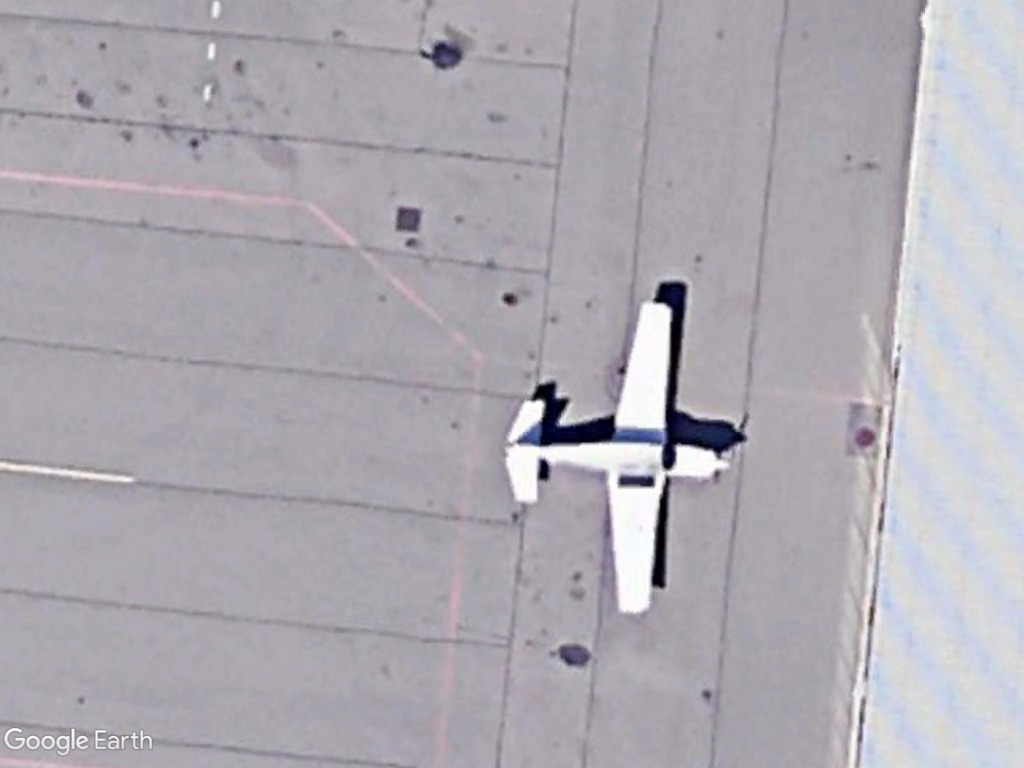trainer: (497, 287, 740, 628)
